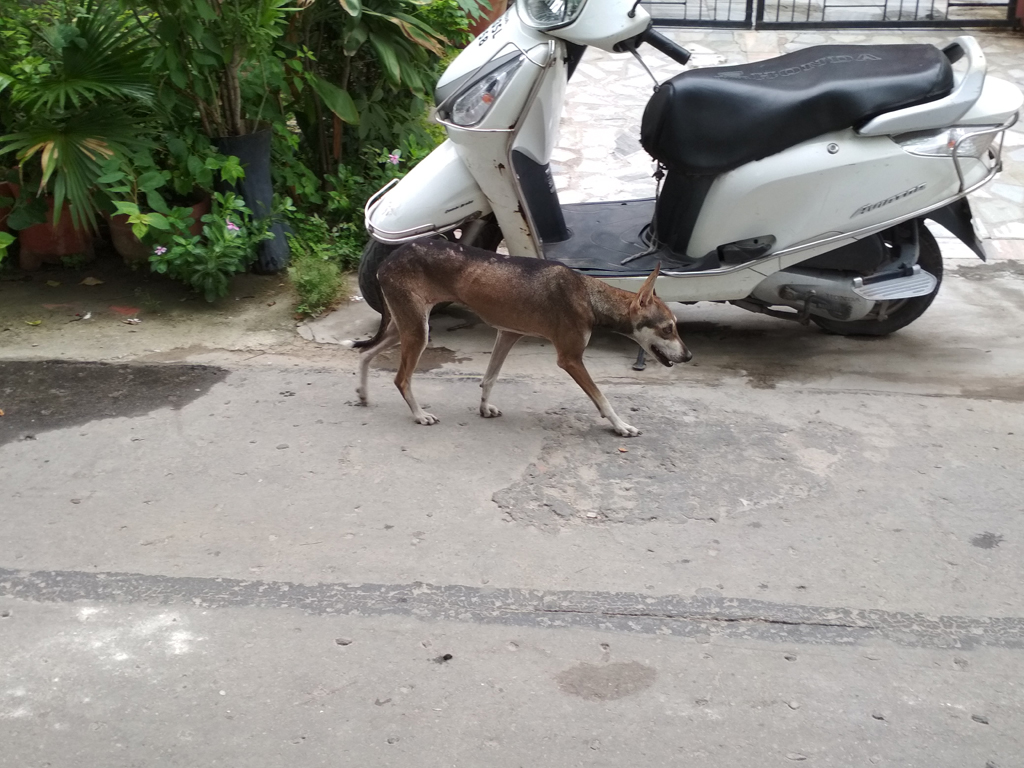dog: (351, 238, 694, 438)
